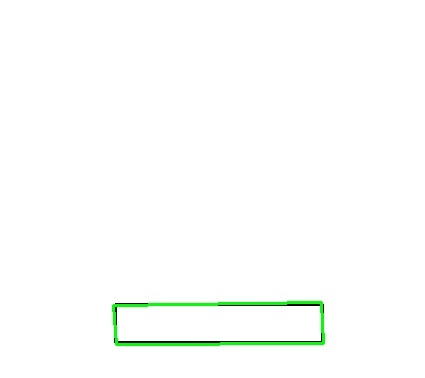line_segment: (113, 302, 325, 345)
